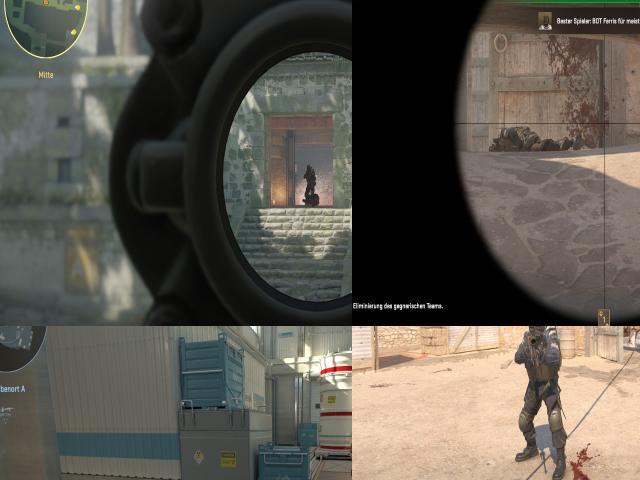Bomb: (350, 431, 352, 454)
CT: (522, 326, 563, 473), (302, 158, 320, 207)
CT-Head: (528, 326, 545, 337), (304, 162, 314, 174)
Dead: (486, 125, 572, 154), (304, 192, 322, 206)
